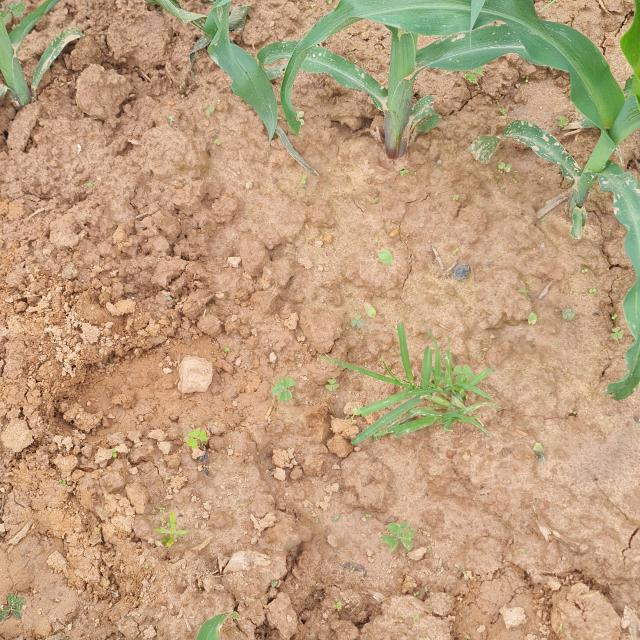maize: (491, 0, 640, 421), (304, 0, 453, 188), (0, 0, 70, 115)
weed: (307, 333, 487, 469), (380, 490, 423, 566), (179, 425, 224, 472), (266, 364, 304, 419), (194, 610, 256, 640), (154, 512, 196, 555)
